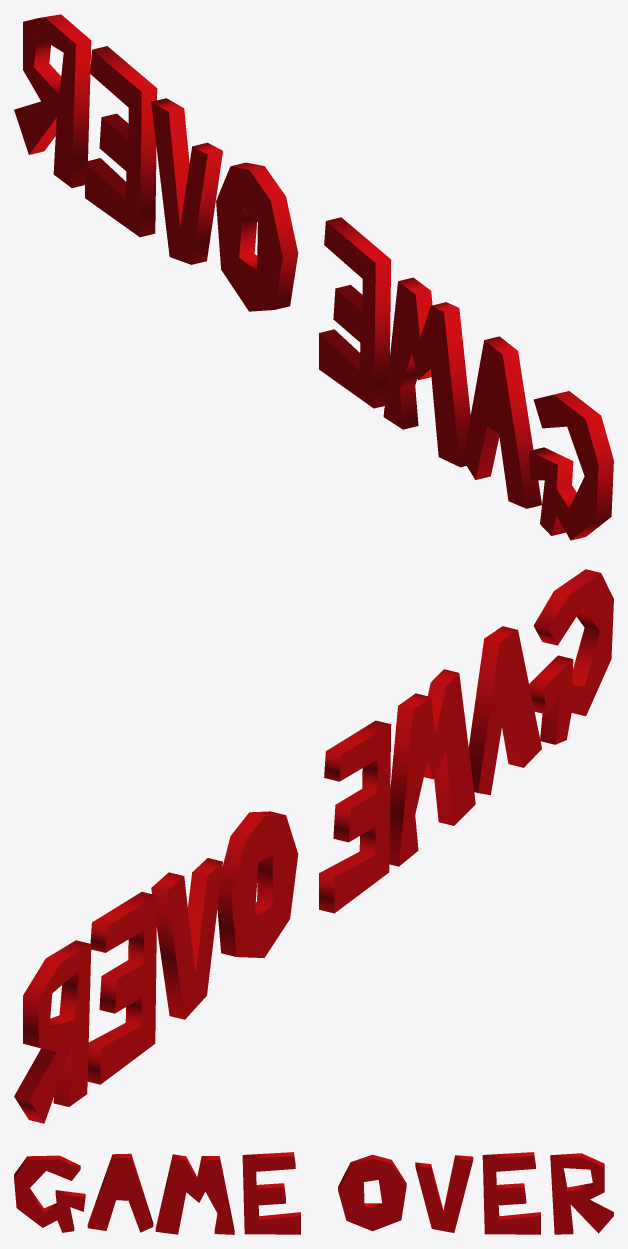
The model's file is game_over.obj.
3 views of the same model, one above another, from view 1: azimuth 30°, elevation 25°; view 2: azimuth 150°, elevation 25°; view 3: azimuth 270°, elevation 25° (orthographic). The views are drawn at different scales.
Parts seen in each view (by area): view 1: game_over_CUText; view 2: game_over_CUText; view 3: game_over_CUText.
Part boxes in pixels (x1,y1,x2,y2): game_over_CUText: (14,14,613,540); game_over_CUText: (14,569,613,1123); game_over_CUText: (14,1152,613,1234).
Bounding box in the file's own units: 0.0513 × 0.4891 × 3.37.
